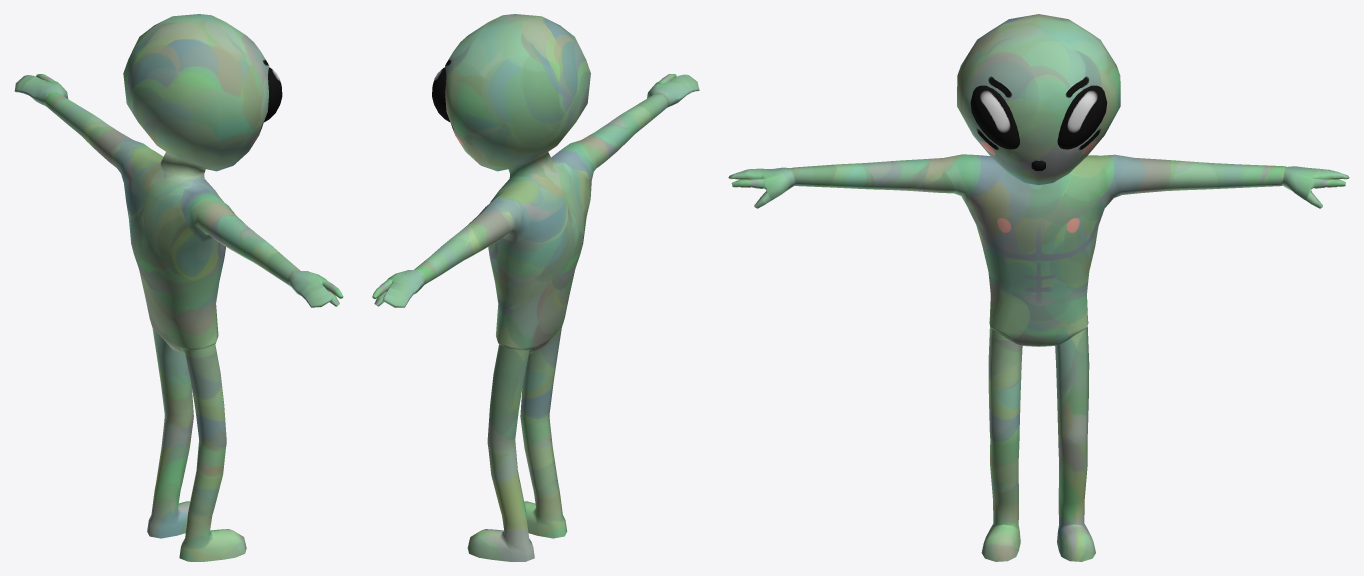
The model's file is ped3.glb.
3 renders of one model, left to right at view 1: azimuth 30°, elevation 25°; view 2: azimuth 150°, elevation 25°; view 3: azimuth 270°, elevation 25°, orthographic.
Visible parts, largest first — view 1: pCube2_1; view 2: pCube2_1; view 3: pCube2_1.
Boxes of the visible parts, x1,y1,x2,y2 form: pCube2_1: (14, 14, 343, 561); pCube2_1: (372, 14, 699, 561); pCube2_1: (728, 14, 1349, 561).
Size of the model in its own units: 1.12 by 4.41 by 4.72.
1 material, 1 textured.
